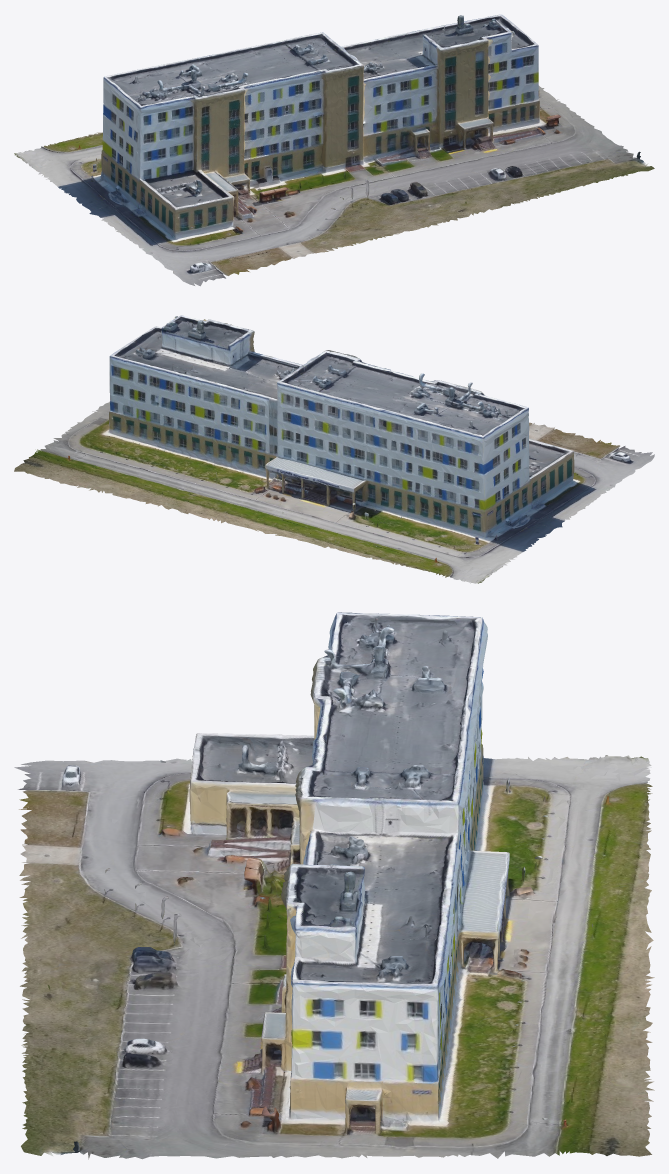
The model's file is polyclinic.glb.
The picture shows the model from 3 angles, top to bottom: view 1: azimuth 30°, elevation 25°; view 2: azimuth 150°, elevation 25°; view 3: azimuth 270°, elevation 25°; orthographic projection. The views are drawn at different scales.
Parts seen in each view (by area): view 1: Model_material0_0; view 2: Model_material0_0; view 3: Model_material0_0.
Part boxes in pixels (<box>): Model_material0_0: <box>14,14,654,286</box>; Model_material0_0: <box>14,315,654,583</box>; Model_material0_0: <box>14,612,654,1159</box>.
Size of the model in its own units: 16.9 by 4 by 11.3.
Materials: 1 (1 with a texture image).
